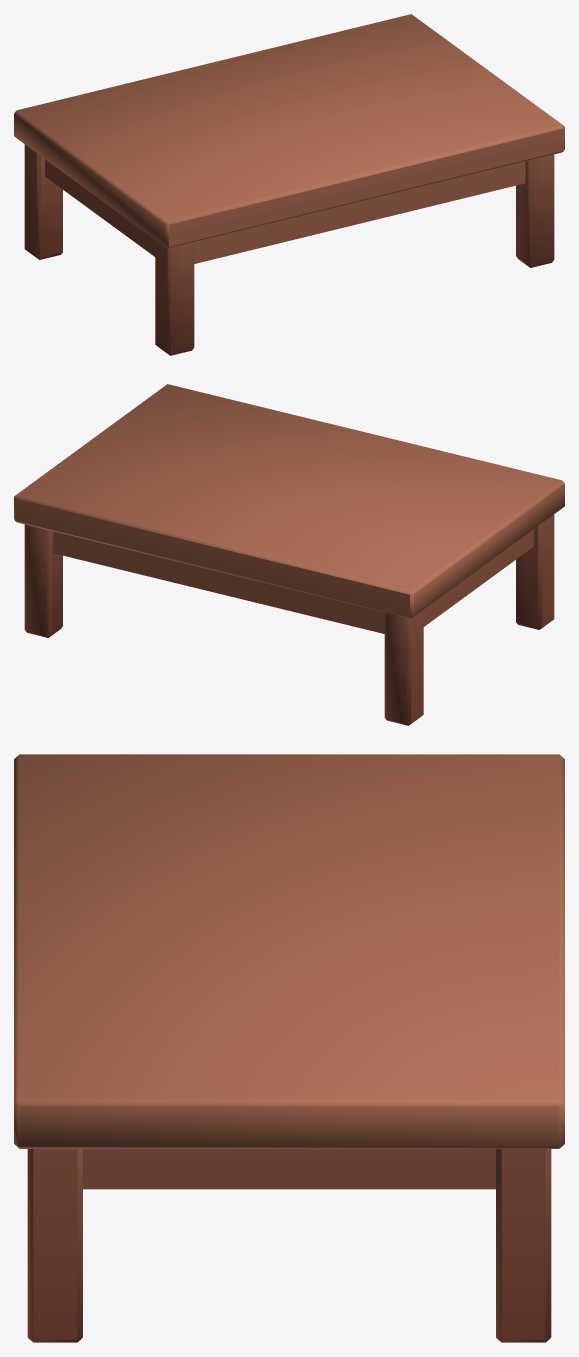
The model's file is table_long.glb.
3 views of the same model, one above another, from view 1: azimuth 30°, elevation 25°; view 2: azimuth 150°, elevation 25°; view 3: azimuth 270°, elevation 25° (orthographic). The views are drawn at different scales.
Parts seen in each view (by area): view 1: table_medium_long; view 2: table_medium_long; view 3: table_medium_long.
Part boxes in pixels (x1,y1,x2,y2): table_medium_long: (14, 14, 564, 355); table_medium_long: (14, 384, 564, 725); table_medium_long: (14, 754, 564, 1342).
Bounding box in the file's own units: 3 × 0.9999 × 2.
Materials: 1 (1 with a texture image).
